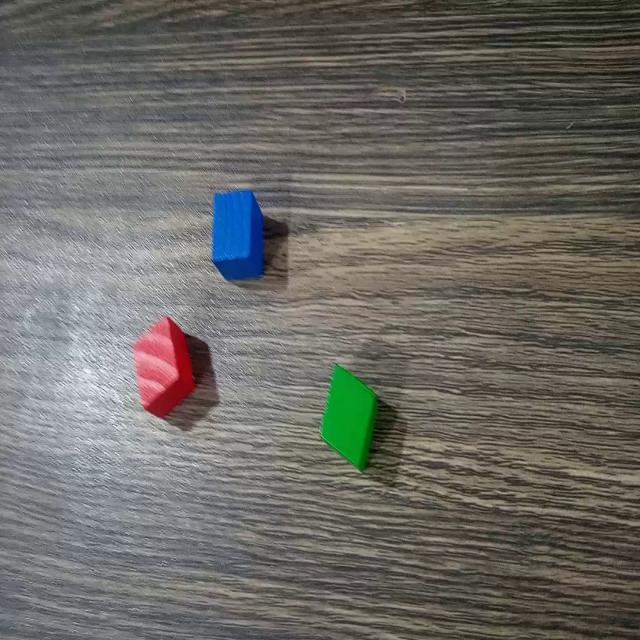cube: (129, 312, 196, 423), (319, 361, 382, 472), (208, 186, 266, 285)
